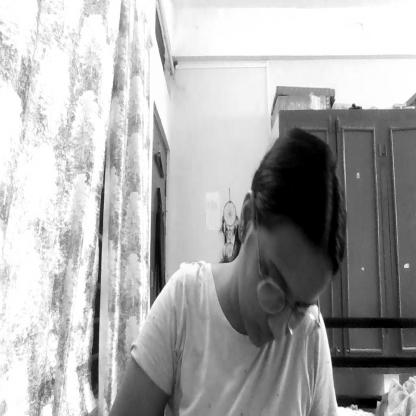Distracted: (242, 134, 349, 351)
